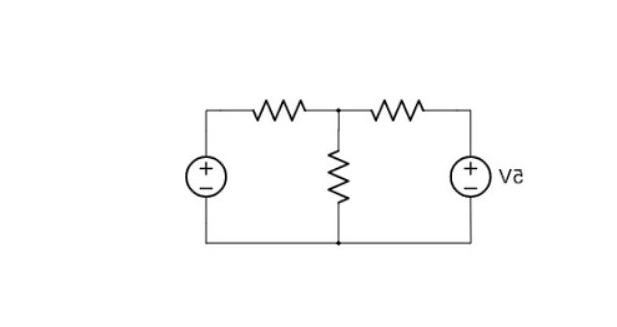resistor: (363, 85, 436, 141), (309, 136, 362, 211), (239, 86, 320, 126)
